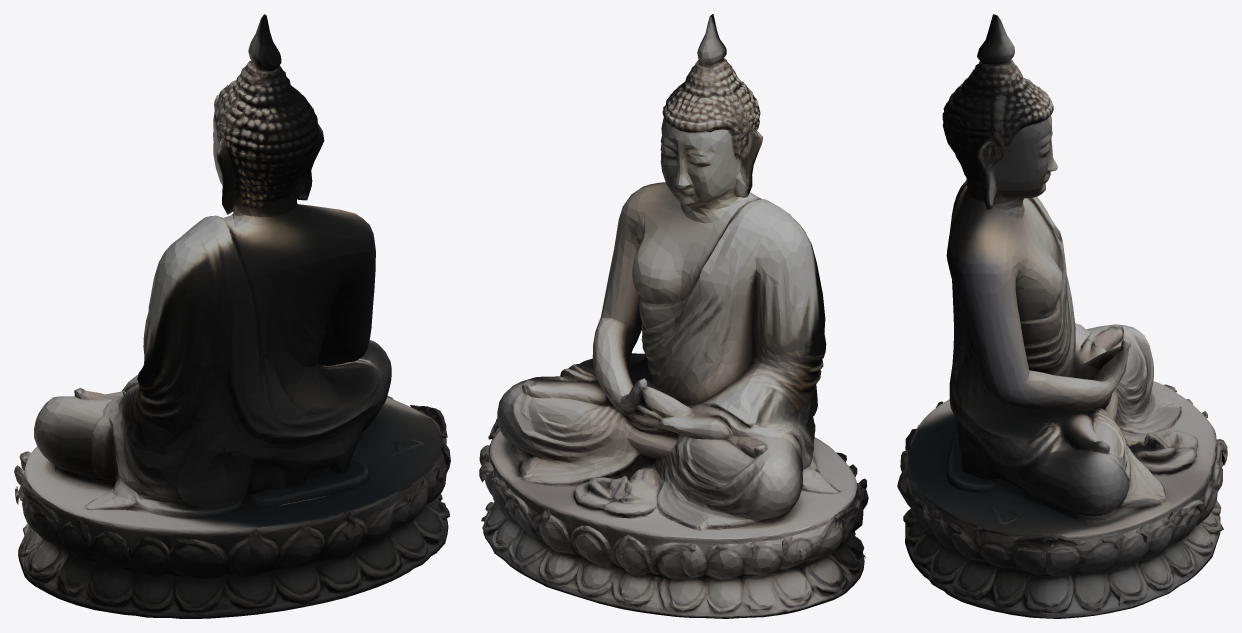
File: buddy1.glb
3 views of the same model, side by side, from view 1: azimuth 30°, elevation 25°; view 2: azimuth 150°, elevation 25°; view 3: azimuth 270°, elevation 25° (orthographic). The views are drawn at different scales.
Parts seen in each view (by area): view 1: world; view 2: world; view 3: world.
Part boxes in pixels (box(x1,y1,x2,y2)): world: box(14, 14, 450, 618); world: box(479, 14, 868, 618); world: box(897, 14, 1227, 618).
Bounding box in the file's own units: 0.4862 × 0.6538 × 0.3807.
Materials: 1 (1 with a texture image).
